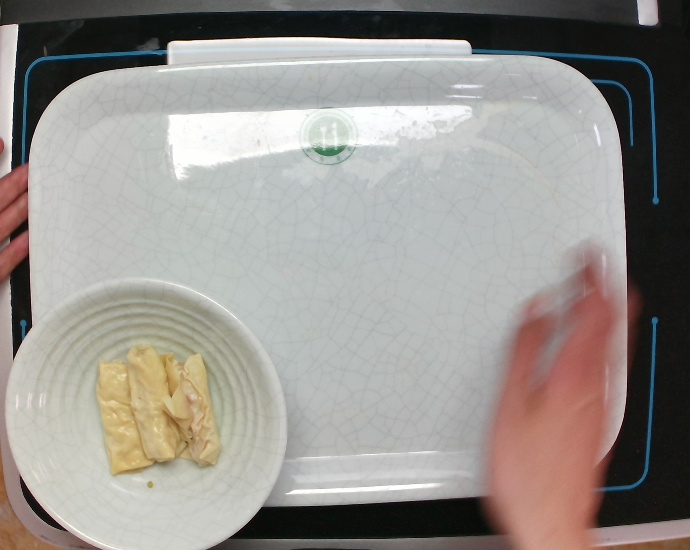JYsf-Xiao_Tang_Wan: (1, 277, 289, 550)
